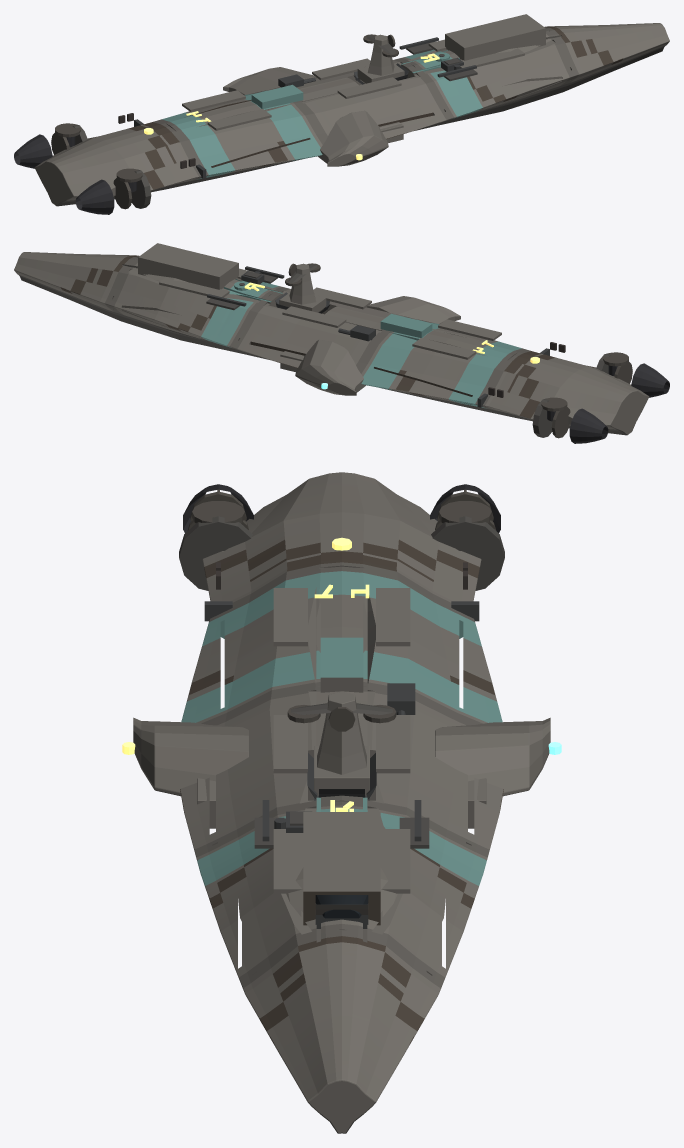
File: ranger_production_v1_lod1.glb
3 renders of one model, top to bottom at view 1: azimuth 30°, elevation 25°; view 2: azimuth 150°, elevation 25°; view 3: azimuth 270°, elevation 25°, orthographic. The views are drawn at different scales.
Parts seen in each view (by area): view 1: LOD0_Hull, LOD0_Collar_Port, LOD0_GunAft_Port, LOD0_Bell_Port, LOD0_Dish_Fore, LOD0_Bell_Stbd, LOD0_Beacon_Aft; view 2: LOD0_Hull, LOD0_Collar_Port, LOD0_GunAft_Port, LOD0_Bell_Stbd, LOD0_Dish_Fore, LOD0_Bell_Port; view 3: LOD0_Hull, LOD0_Collar_Port, LOD0_GunAft_Port, LOD0_Dish_Fore, LOD0_Bell_Nozzle_Port, LOD0_Bell_Nozzle_Stbd.
Boxes of the visible parts, x1=… form: LOD0_Hull: x1=34, y1=14, x2=669, y2=206; LOD0_Collar_Port: x1=70, y1=34, x2=477, y2=208; LOD0_GunAft_Port: x1=134, y1=37, x2=476, y2=178; LOD0_Bell_Port: x1=75, y1=179, x2=114, y2=214; LOD0_Dish_Fore: x1=51, y1=34, x2=398, y2=209; LOD0_Bell_Stbd: x1=14, y1=134, x2=52, y2=168; LOD0_Beacon_Aft: x1=144, y1=53, x2=439, y2=160; LOD0_Hull: x1=14, y1=243, x2=649, y2=435; LOD0_Collar_Port: x1=206, y1=263, x2=613, y2=437; LOD0_GunAft_Port: x1=207, y1=266, x2=549, y2=407; LOD0_Bell_Stbd: x1=569, y1=408, x2=608, y2=443; LOD0_Dish_Fore: x1=285, y1=263, x2=632, y2=438; LOD0_Bell_Port: x1=631, y1=363, x2=669, y2=397; LOD0_Hull: x1=133, y1=472, x2=550, y2=1133; LOD0_Collar_Port: x1=179, y1=516, x2=504, y2=848; LOD0_GunAft_Port: x1=204, y1=601, x2=479, y2=928; LOD0_Dish_Fore: x1=187, y1=489, x2=496, y2=731; LOD0_Bell_Nozzle_Port: x1=192, y1=501, x2=244, y2=522; LOD0_Bell_Nozzle_Stbd: x1=439, y1=501, x2=491, y2=522.
Size of what is drawn, in the model's own units: 17.17 by 2.67 by 5.32.
